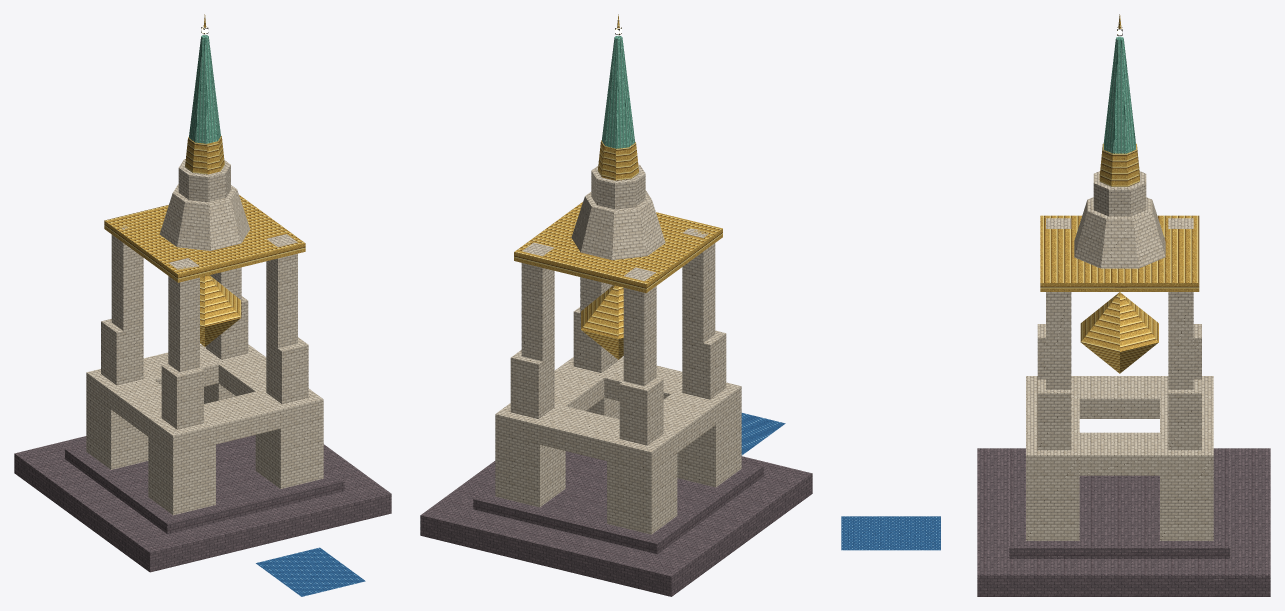
The model's file is great-meridian-far.glb.
3 views of the same model, side by side, from view 1: azimuth 30°, elevation 25°; view 2: azimuth 150°, elevation 25°; view 3: azimuth 270°, elevation 25° (orthographic). The views are drawn at different scales.
Visible parts, largest first — view 1: great_meridian_far; view 2: great_meridian_far; view 3: great_meridian_far.
Part boxes in pixels (x1,y1,x2,y2): great_meridian_far: (14,14,391,596); great_meridian_far: (420,14,812,596); great_meridian_far: (841,14,1270,596).
Bounding box in the file's own units: 55.87 × 106 × 79.54.
Materials: 6 (6 with a texture image).
